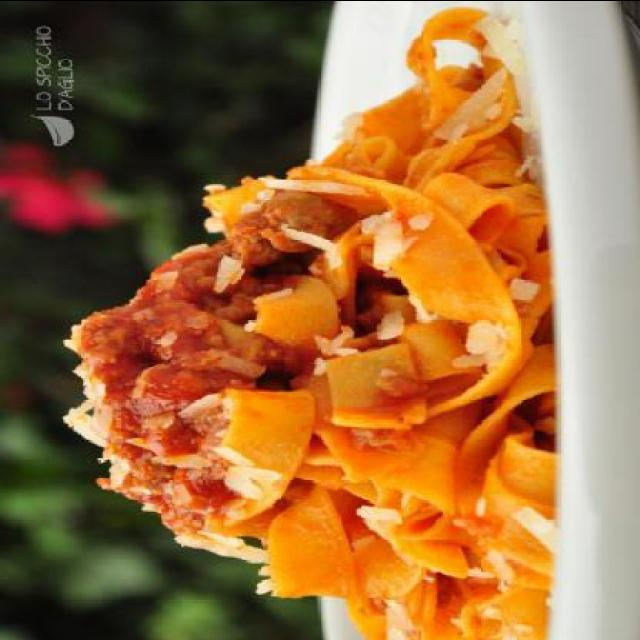Pasta al ragu: (67, 158, 527, 594)
